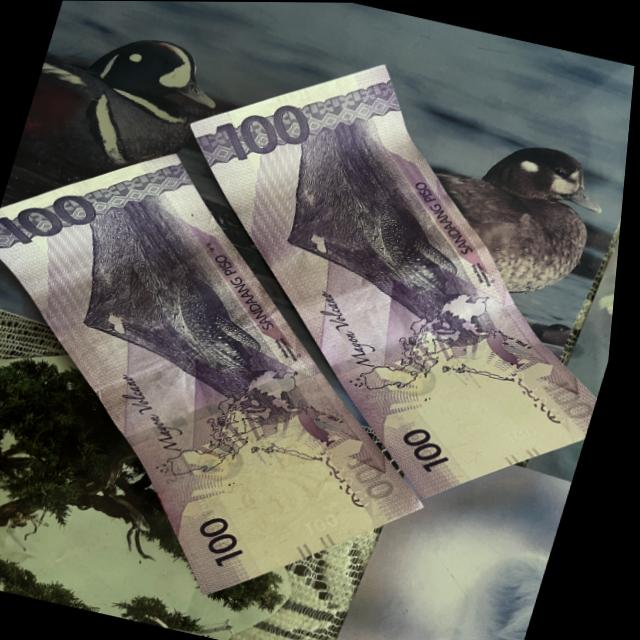100_whale: (148, 266, 298, 399), (349, 197, 490, 316)
100_whale_watermark: (466, 306, 550, 381), (282, 394, 357, 457)
value_watermark: (297, 497, 358, 547)
watermark: (174, 422, 382, 565), (391, 350, 575, 473)
